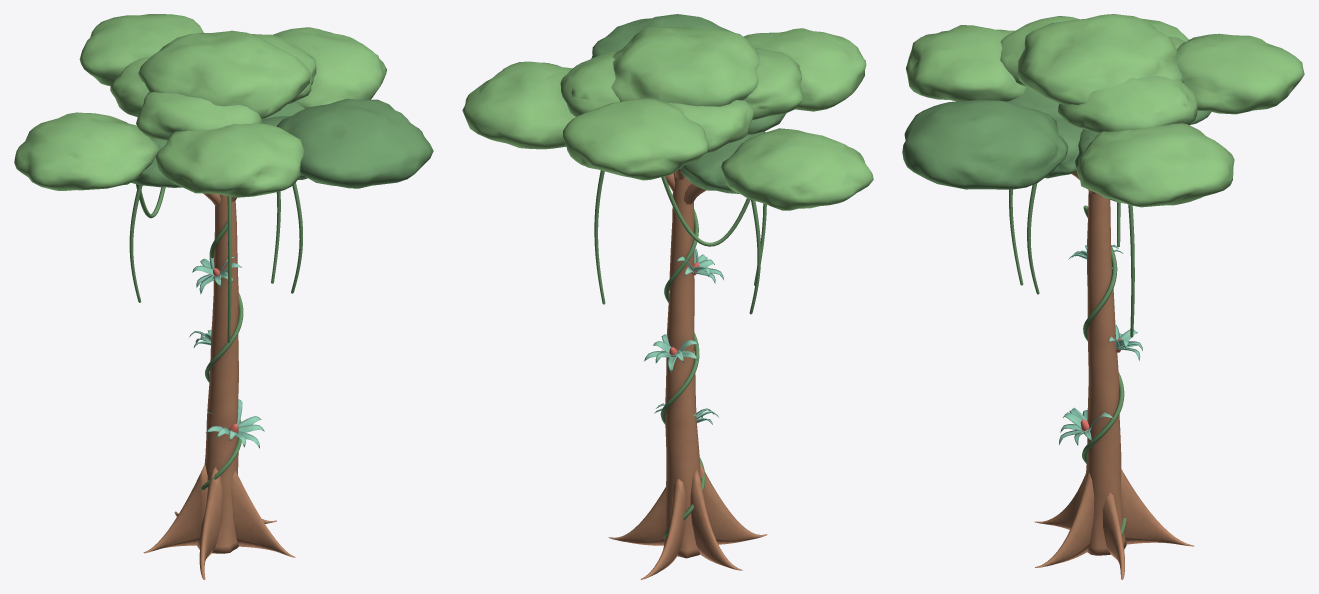
The model's file is grab3d-jungle-tree.glb.
3 renders of one model, left to right at view 1: azimuth 30°, elevation 25°; view 2: azimuth 150°, elevation 25°; view 3: azimuth 270°, elevation 25°, orthographic. The views are drawn at different scales.
Visible parts, largest first — view 1: jungle-tree_body; view 2: jungle-tree_body; view 3: jungle-tree_body.
Part boxes in pixels (left/top/right/bottom): jungle-tree_body: left=14, top=14, right=433, bottom=579; jungle-tree_body: left=462, top=14, right=873, bottom=579; jungle-tree_body: left=902, top=14, right=1304, bottom=579.
Size of the model in its own units: 7.85 by 10.14 by 7.15.
Materials: 1 (1 with a texture image).
